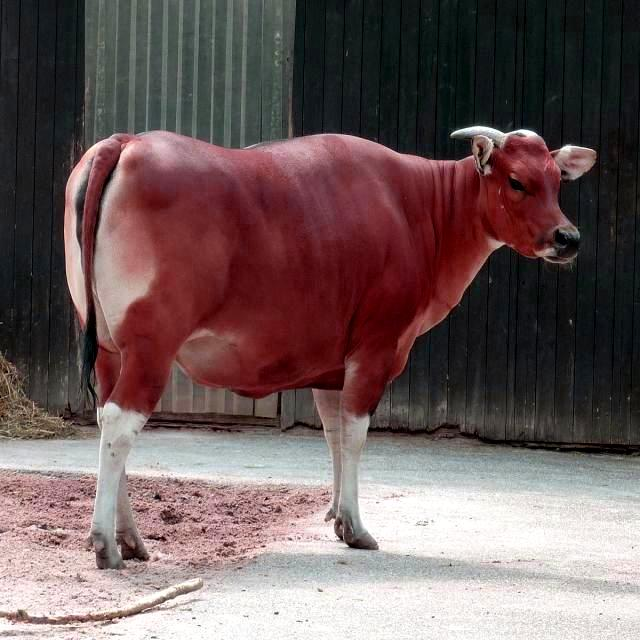COW: (65, 128, 595, 568)
